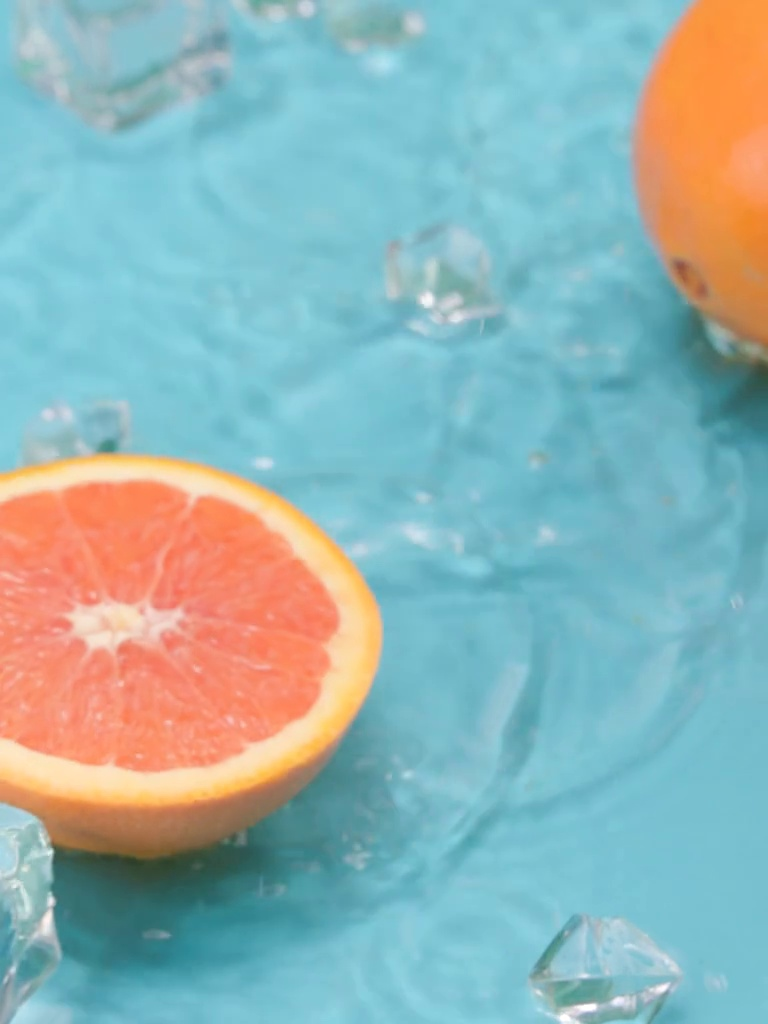Orange: (1, 458, 385, 869), (636, 1, 768, 353)
